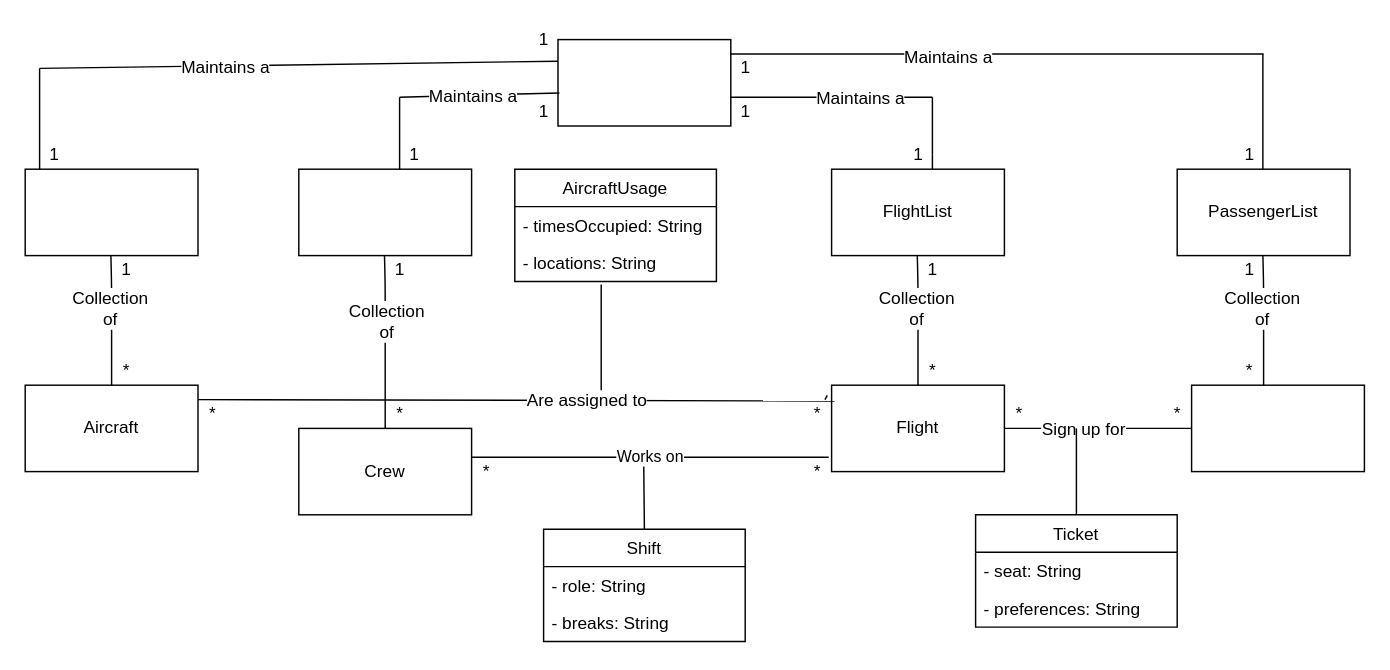
The diagram is 1390 pixels wide and 670 high, and some of its shapes have lost their labels. The shapes that lost their labels are listed below. From the top down, each one's centre as x and y in pixels, then its label:
At point (644, 82): "Airline".
At point (111, 212): "AircraftList".
At point (384, 212): "CrewList".
At point (1277, 428): "Passenger".
